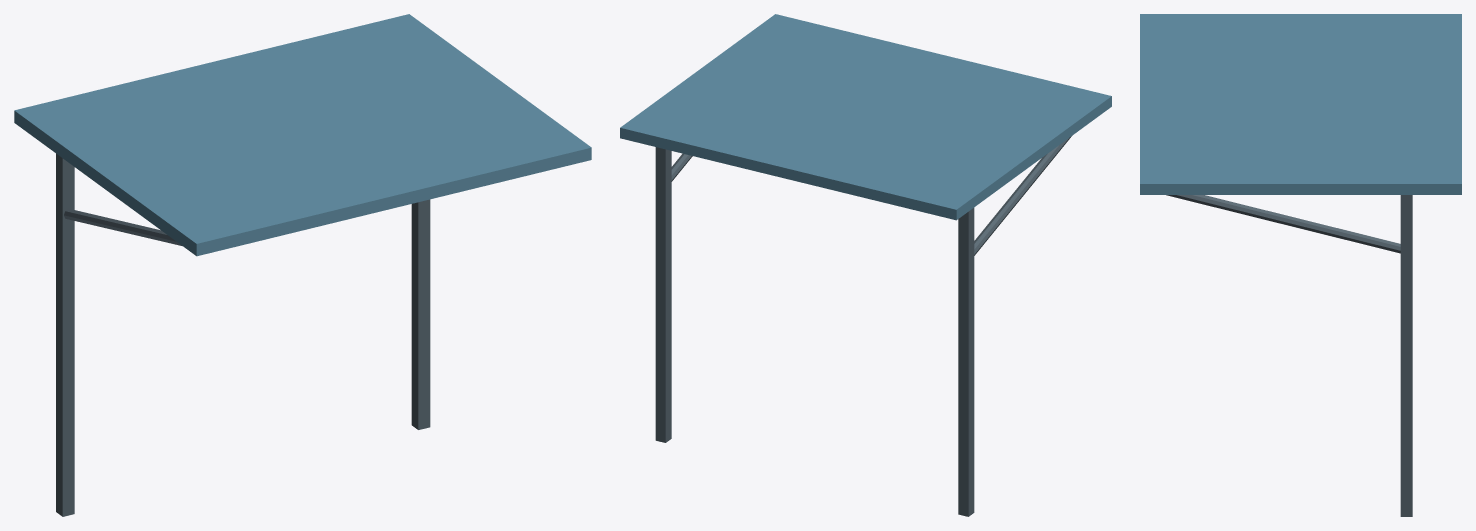
Rendered from standroof.glb.
The picture shows the model from 3 angles, left to right: view 1: azimuth 30°, elevation 25°; view 2: azimuth 150°, elevation 25°; view 3: azimuth 270°, elevation 25°; orthographic projection. The views are drawn at different scales.
Parts seen in each view (by area): view 1: stand-roof-bay; view 2: stand-roof-bay; view 3: stand-roof-bay.
Boxes of the visible parts, <box> form: stand-roof-bay: <box>14,14,591,516</box>; stand-roof-bay: <box>620,14,1111,516</box>; stand-roof-bay: <box>1140,14,1461,516</box>.
Bounding box in the file's own units: 4 × 3.72 × 3.2.
